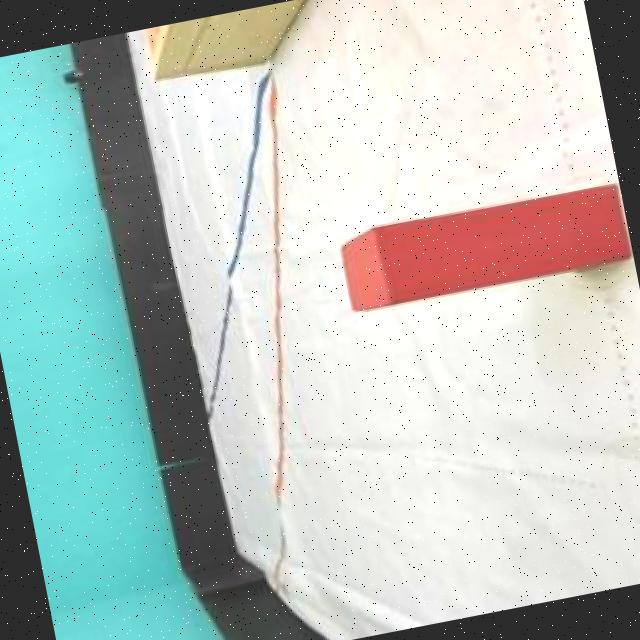redbox: (338, 182, 630, 310)
